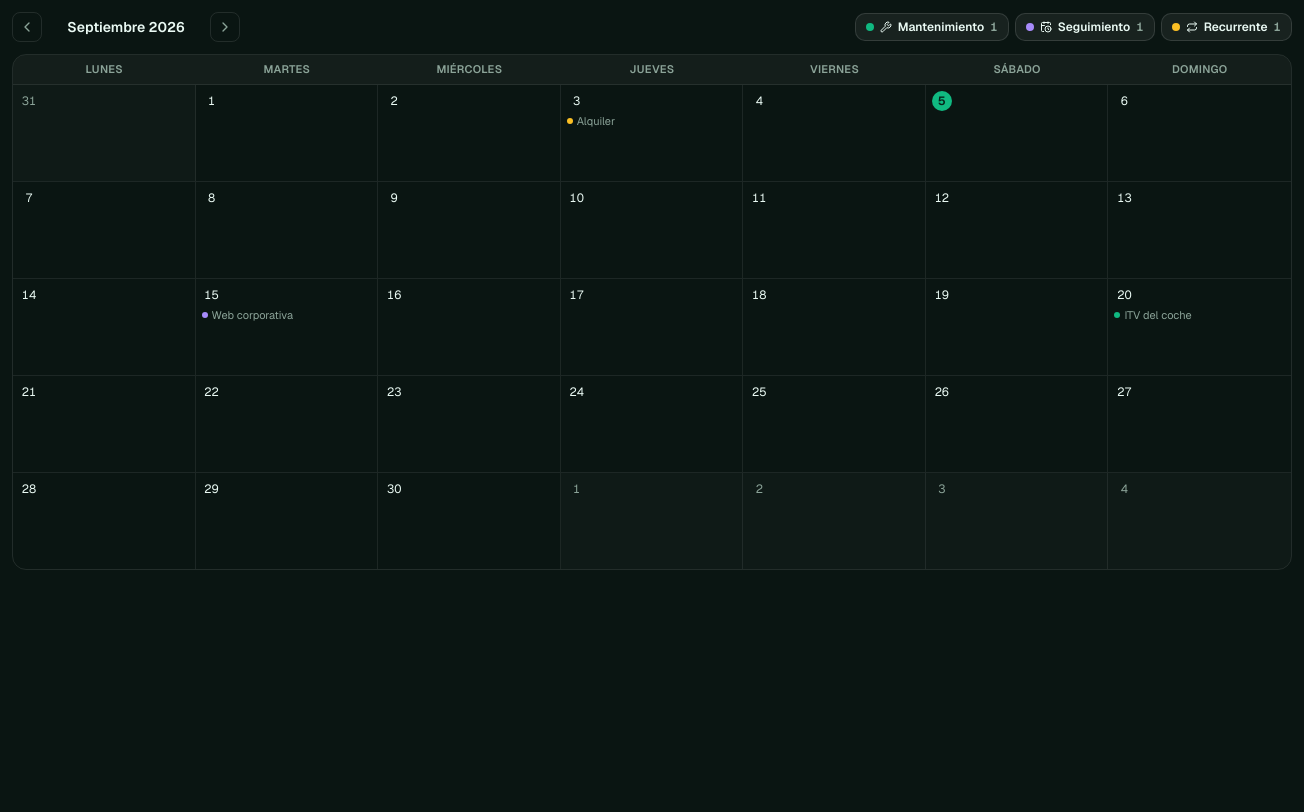
it: Calendario: teclado › un día VECINO lleva a su mes: en la rejilla del mes en curso sale vacío
What coordinates should you click on to do the following:
click the button "31"
I would click on:
 (104, 132)
Its box is [13,84,196,180].
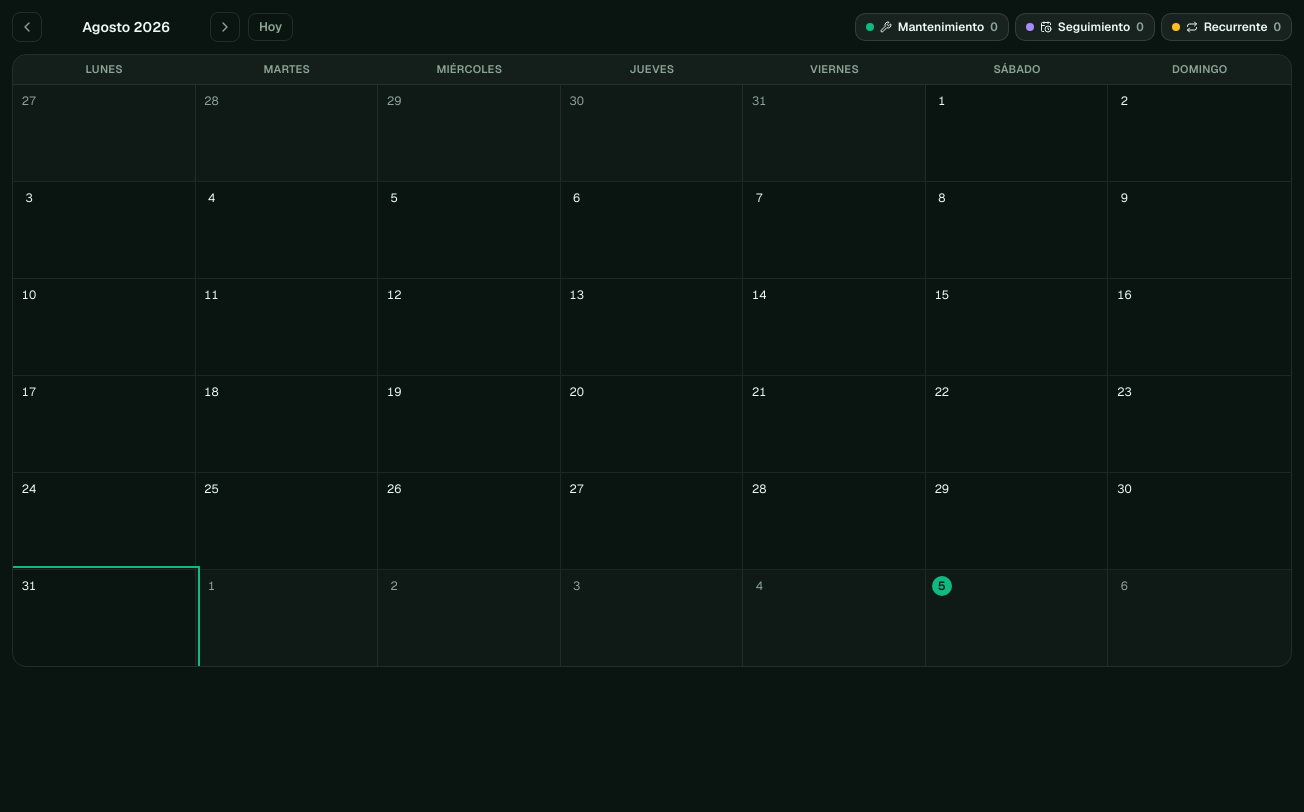
Expected: the text "Agosto 2026" is shown, [82,18,170,36]
